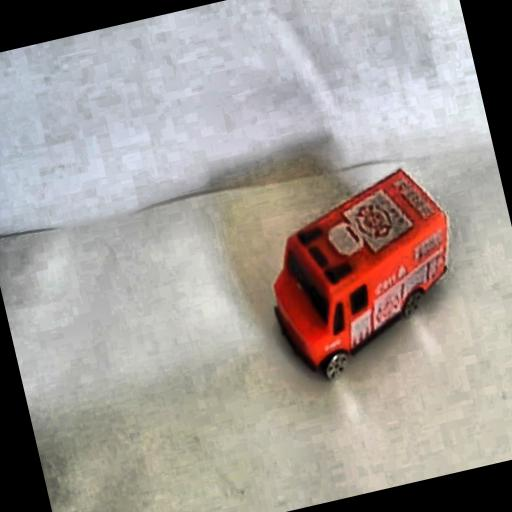fire_truck: (246, 156, 480, 390)
